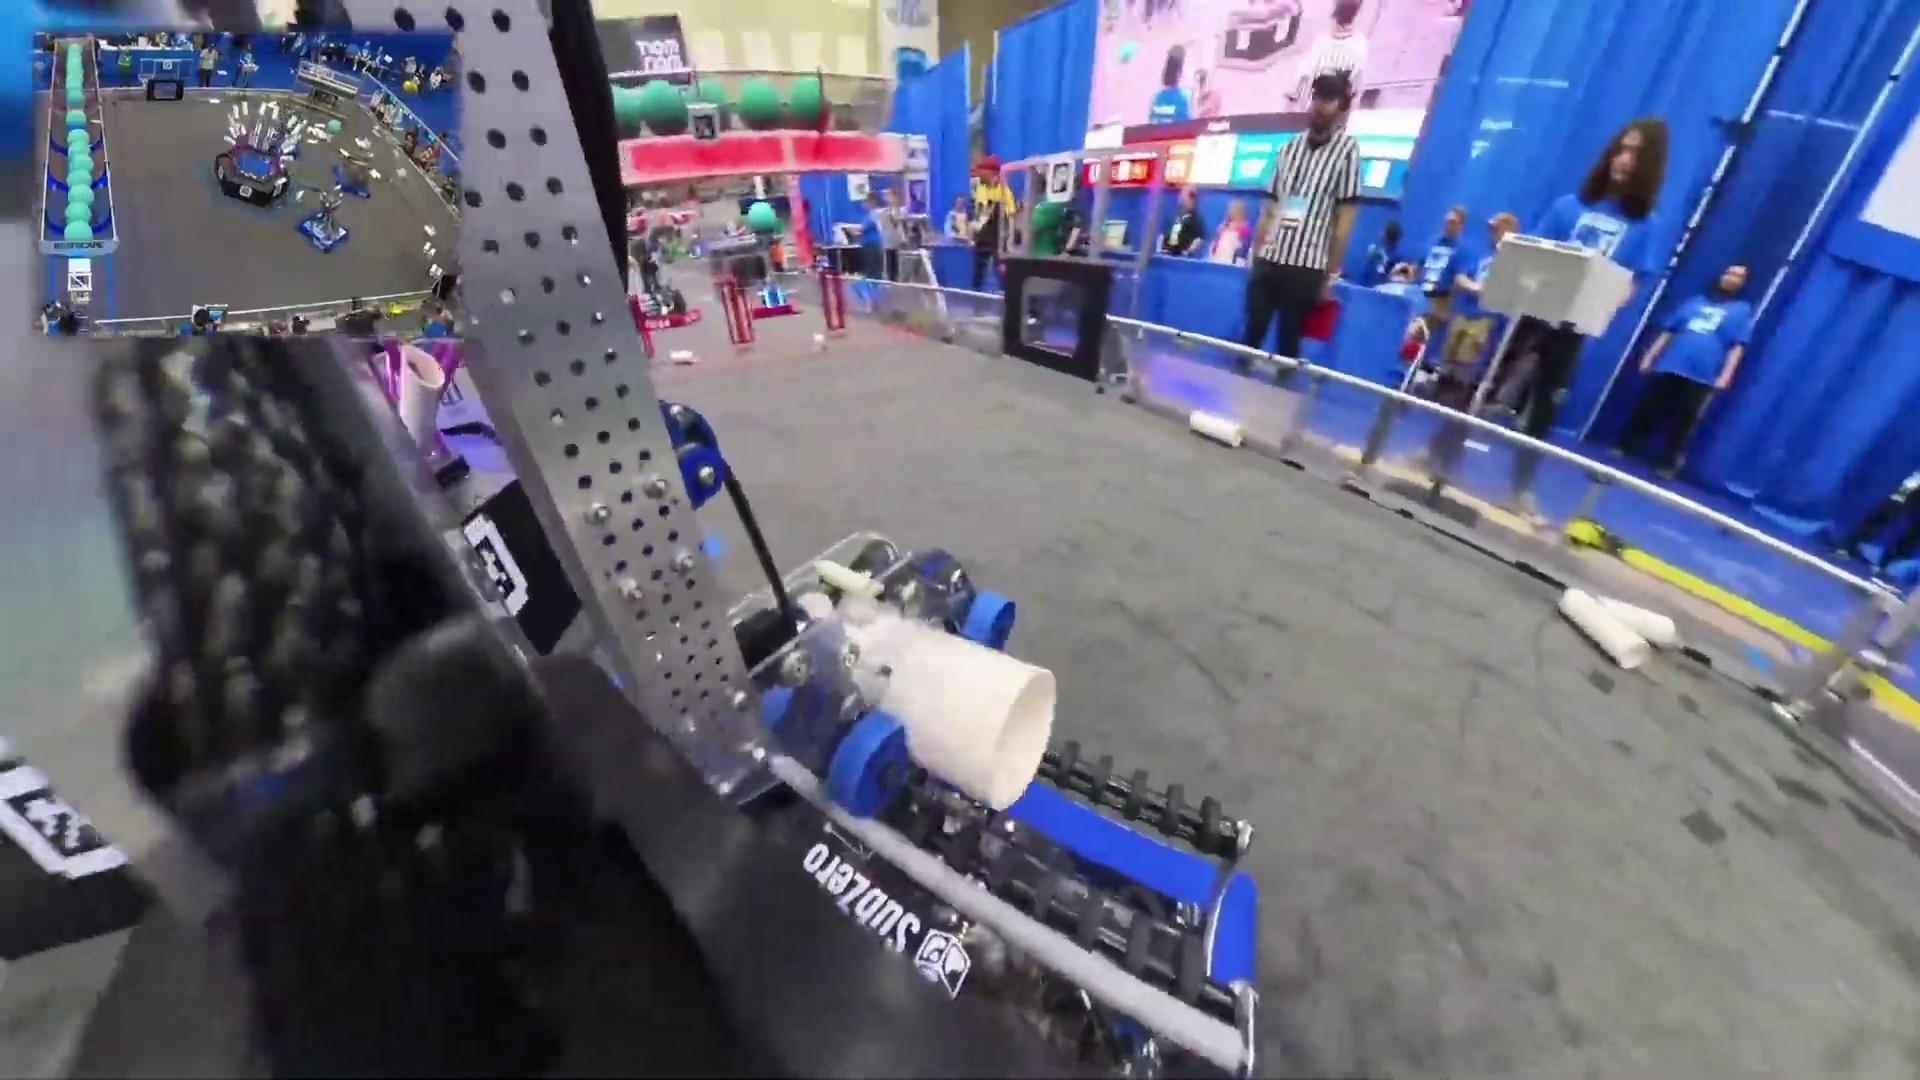robot: (624, 231, 698, 328), (298, 183, 352, 251), (745, 274, 799, 319), (327, 153, 375, 200)
